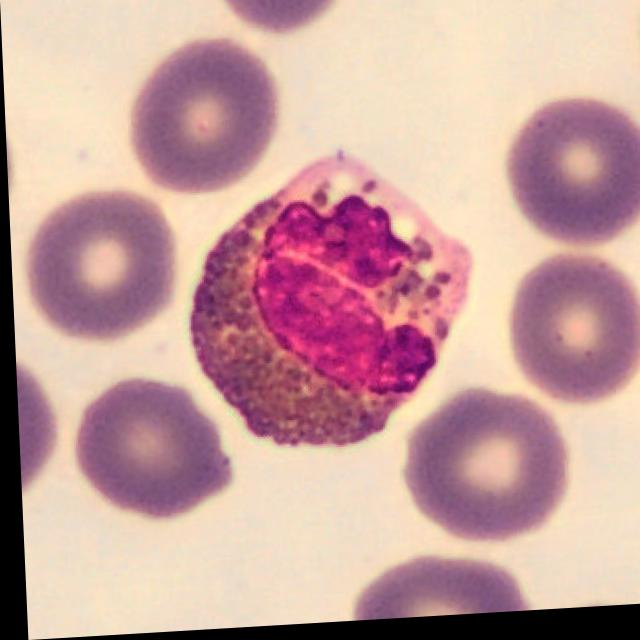Eosinofilo: (186, 153, 471, 450)
